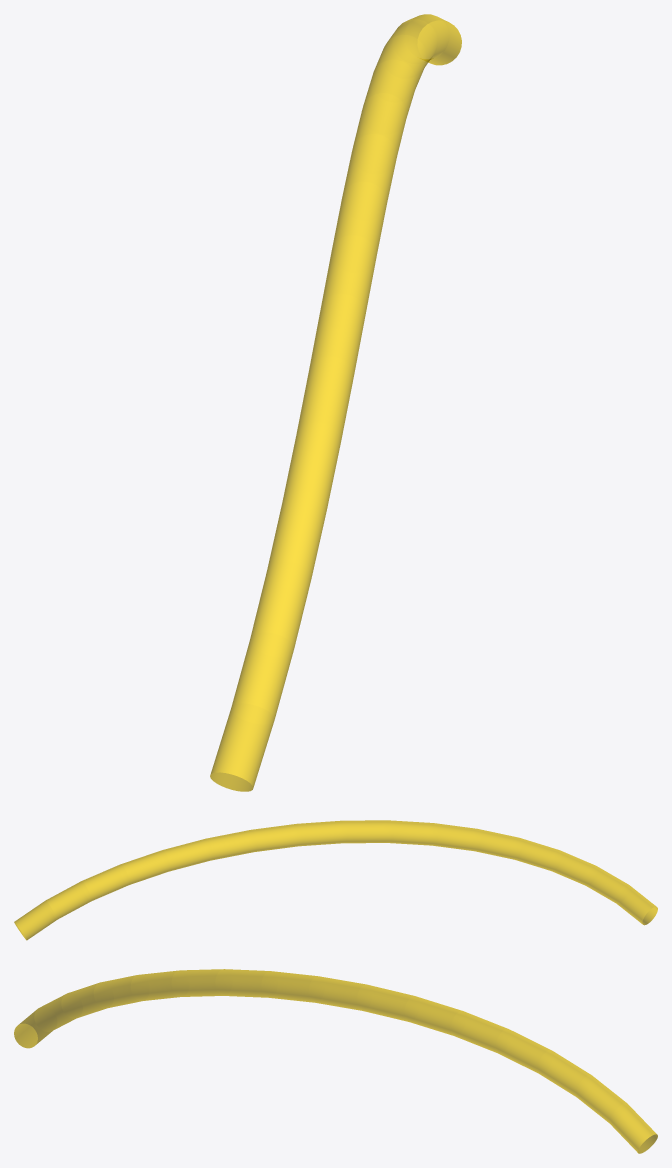
Rendered from Event_40932208_track_38.fbx.
3 views of the same model, one above another, from view 1: azimuth 30°, elevation 25°; view 2: azimuth 150°, elevation 25°; view 3: azimuth 270°, elevation 25° (orthographic). The views are drawn at different scales.
Visible parts, largest first — view 1: Model; view 2: Model; view 3: Model.
Part boxes in pixels (x1=…): Model: x1=210, y1=14, x2=461, y2=791; Model: x1=14, y1=820, x2=657, y2=940; Model: x1=14, y1=969, x2=657, y2=1153.
Bounding box in the file's own units: 0.78 × 0.3017 × 0.9605.
